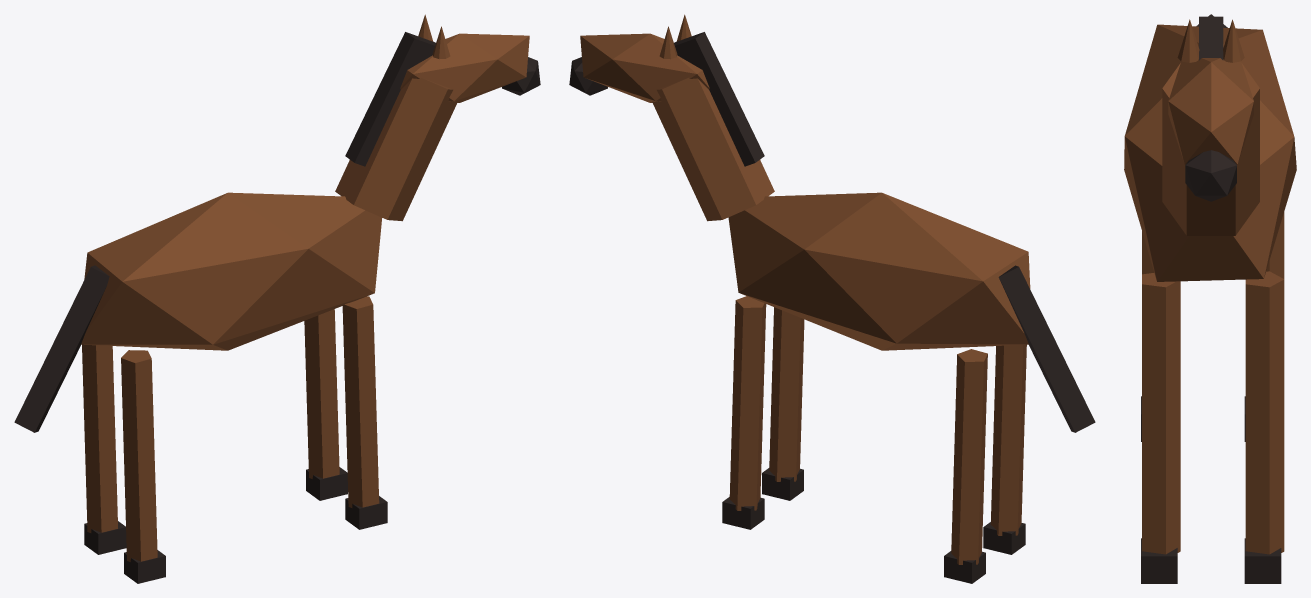
File: hast.glb
3 renders of one model, left to right at view 1: azimuth 30°, elevation 25°; view 2: azimuth 150°, elevation 25°; view 3: azimuth 270°, elevation 25°, orthographic. The views are drawn at different scales.
Parts seen in each view (by area): view 1: hast; view 2: hast; view 3: hast.
Boxes of the visible parts, x1,y1,x2,y2 form: hast: (14,14,540,583); hast: (569,14,1095,583); hast: (1124,14,1296,583).
Size of the model in its own units: 2.6 by 2.21 by 0.5658.
